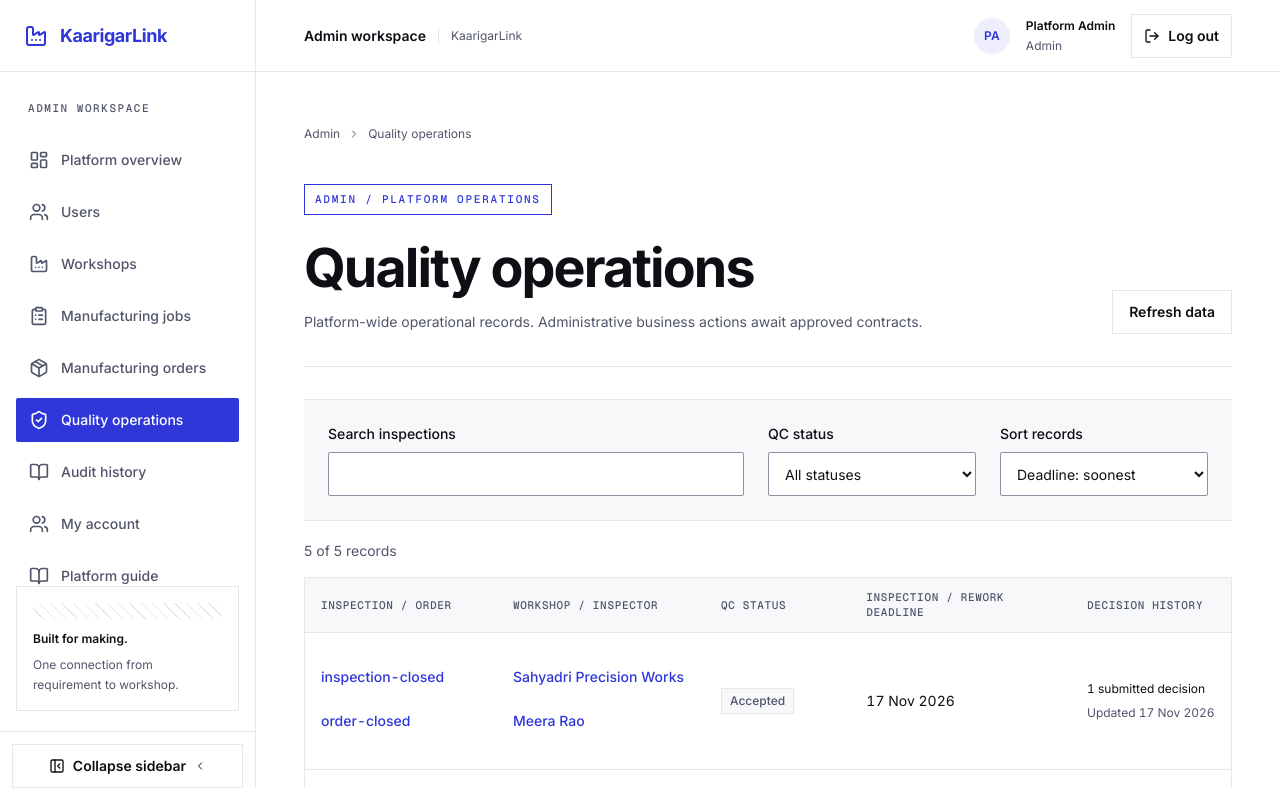
Scenario: filters overdue rework on the quality overview
The image size is (1280, 788).
Expected: the text "5 of 5 records" is shown, [304,542,397,559]
Select "Overdue rework" in the dropdown labelled "QC status". click: (872, 474)
box: [768,452,976,496]
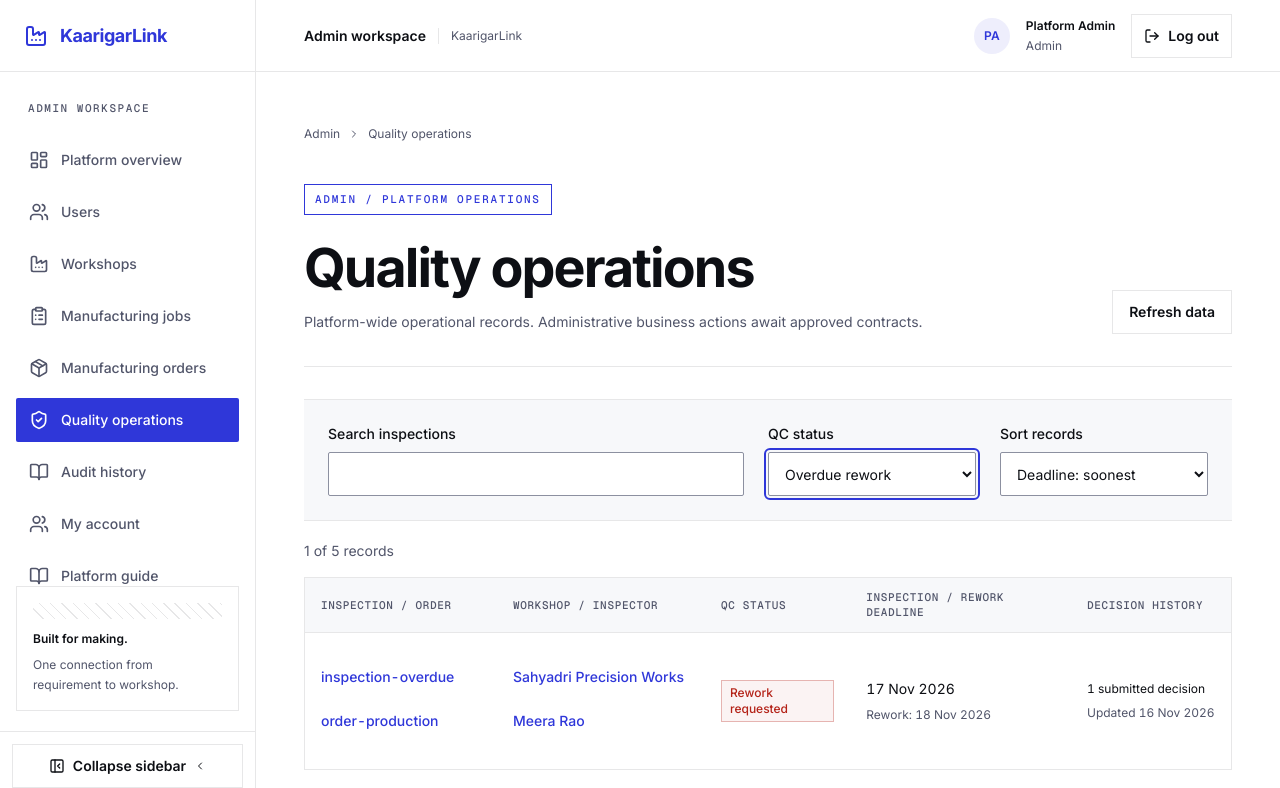
Expected: the table shows "inspection-overdue", [321,656,454,700]
Expected: the text "1 of 5 records" is shown, [304,542,394,559]
